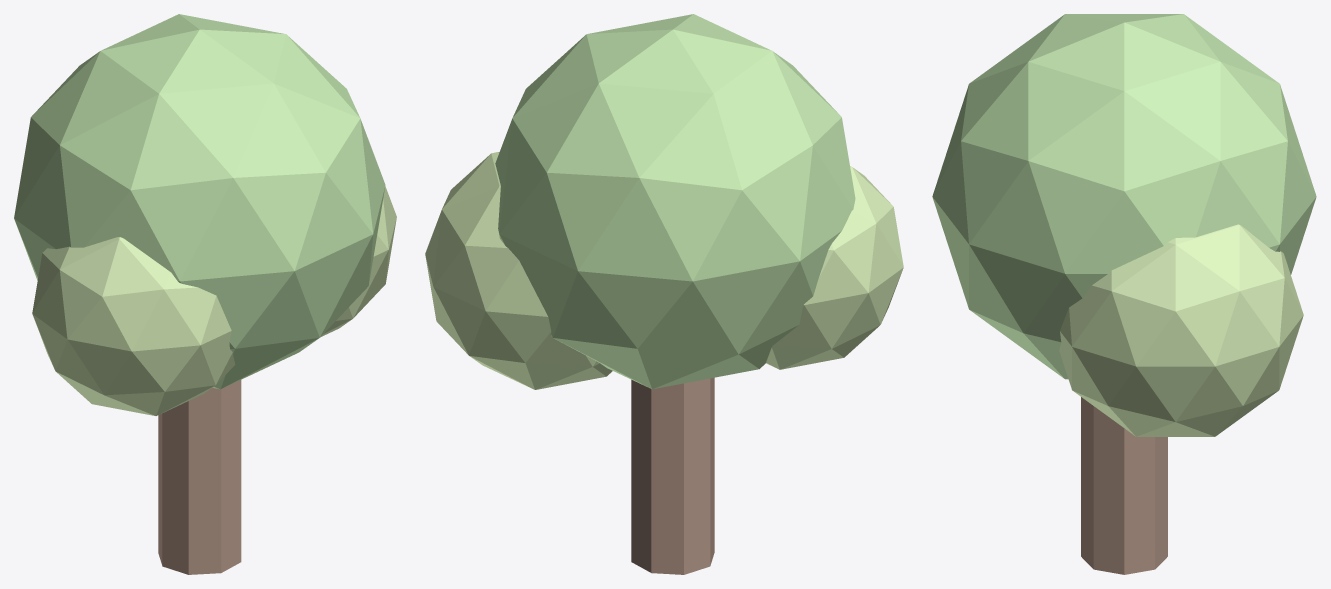
File: listnac.glb
The picture shows the model from 3 angles, left to right: view 1: azimuth 30°, elevation 25°; view 2: azimuth 150°, elevation 25°; view 3: azimuth 270°, elevation 25°; orthographic projection.
Visible parts, largest first — view 1: listnac; view 2: listnac; view 3: listnac.
Part boxes in pixels (left/top/right/bottom): listnac: left=14, top=14, right=396, bottom=574; listnac: left=425, top=14, right=903, bottom=574; listnac: left=932, top=14, right=1316, bottom=574.
Bounding box in the file's own units: 1.75 × 2.3 × 1.5.
